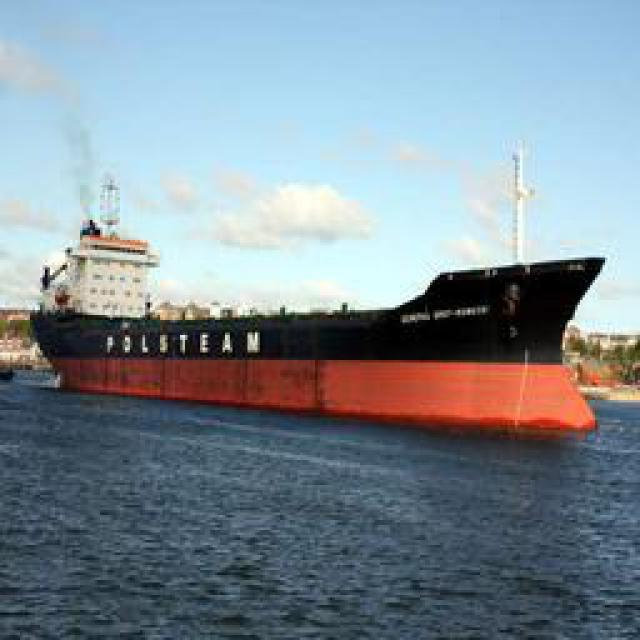Ship: (36, 250, 616, 435)
